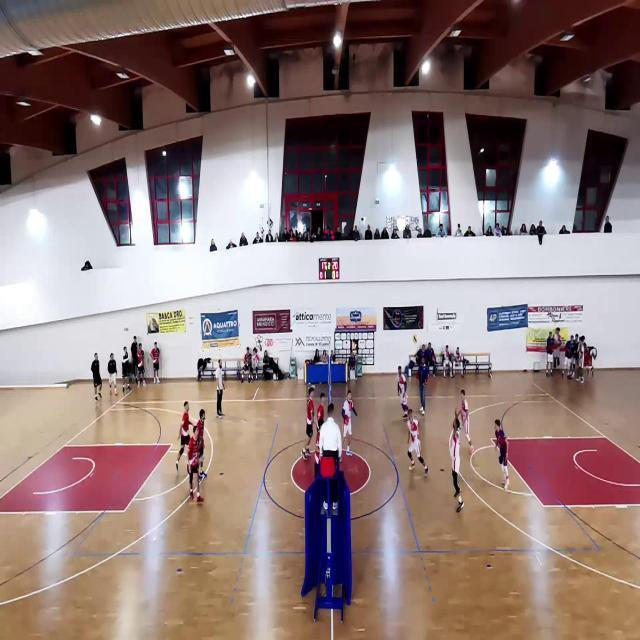volleyball: (412, 335, 418, 344)
